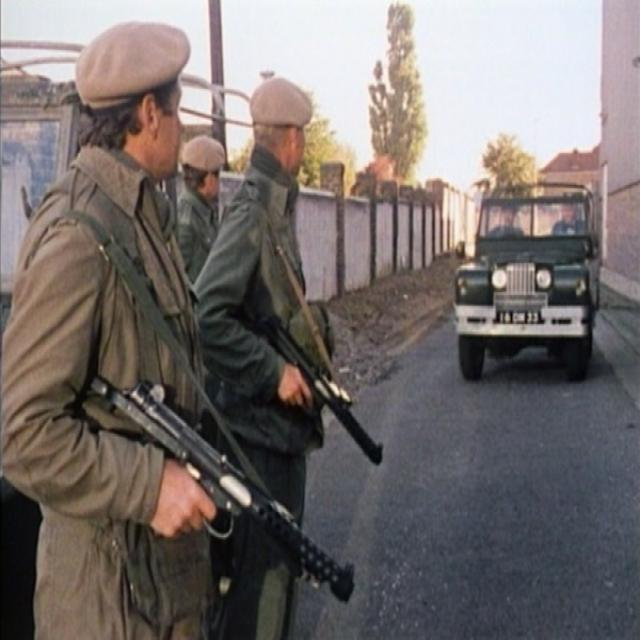rifle: (84, 370, 367, 612), (251, 308, 392, 481)
